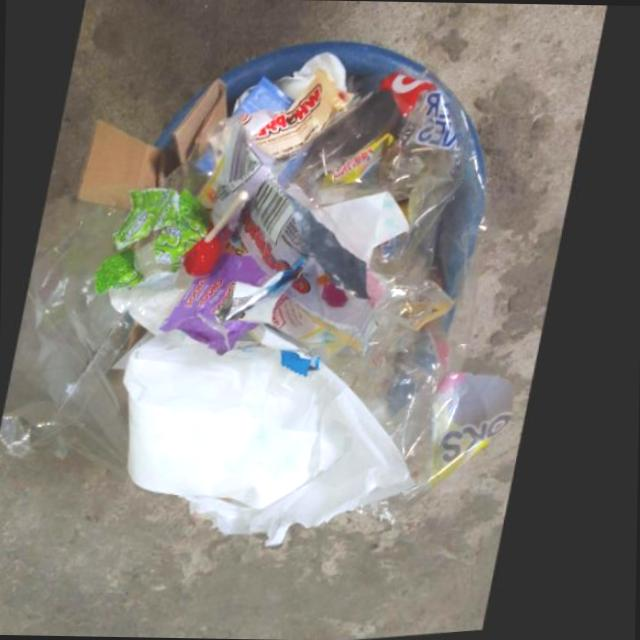bao_bi_thuc_pham: (215, 132, 378, 334), (100, 190, 218, 297), (245, 74, 356, 163)
carton: (82, 121, 164, 207), (175, 82, 230, 166)
giay: (130, 332, 426, 553)
tui_ni_long: (257, 78, 523, 535), (8, 193, 144, 482)
